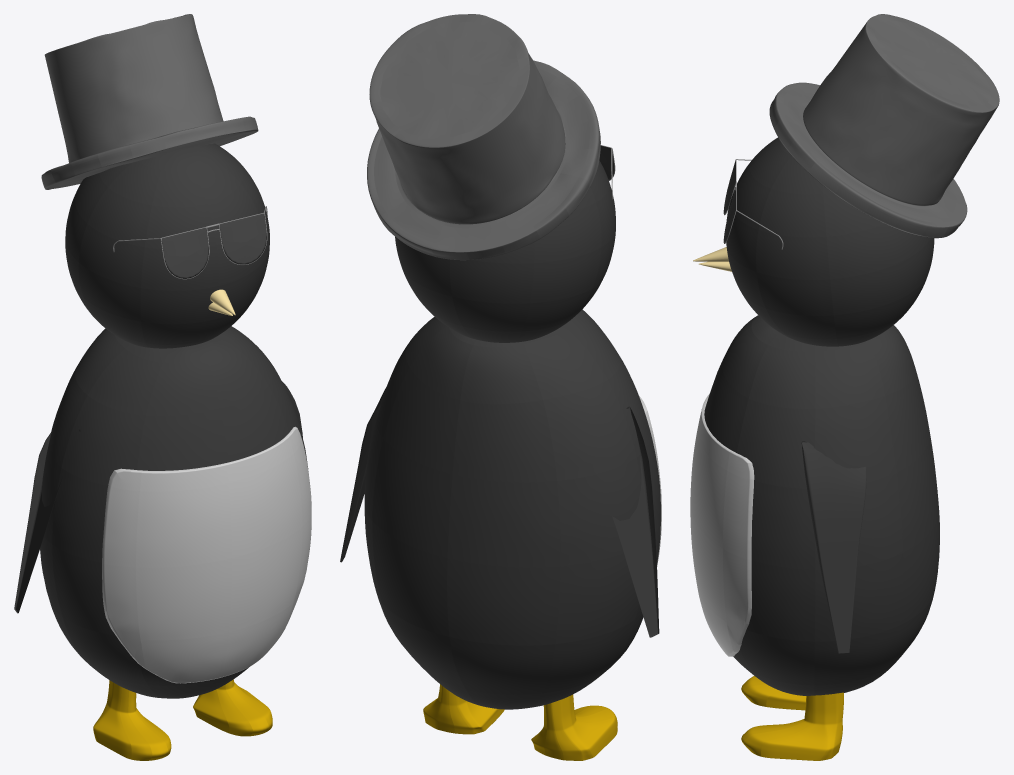
The model's file is PenguinFBX.fbx.
3 views of the same model, side by side, from view 1: azimuth 30°, elevation 25°; view 2: azimuth 150°, elevation 25°; view 3: azimuth 270°, elevation 25° (orthographic). The views are drawn at different scales.
Parts seen in each view (by area): view 1: body, white_body_part, head, hat, right_leg, left_leg, right_hand, left_glass, right_glass; view 2: body, hat, head, right_hand, right_leg, left_leg, left_hand; view 3: body, hat, head, white_body_part, left_hand, left_leg, right_leg.
Part boxes in pixels (x1,y1,x2,y2): body: (40,326,308,698); white_body_part: (102,426,311,683); head: (65,143,269,348); hat: (41,14,258,189); right_leg: (93,680,171,760); left_leg: (193,679,272,736); right_hand: (14,428,80,613); left_glass: (219,213,266,265); right_glass: (161,227,208,279); body: (364,309,660,709); hat: (367,14,600,260); head: (395,160,615,342); right_hand: (612,406,659,637); right_leg: (531,694,617,760); left_leg: (423,684,504,734); left_hand: (340,387,386,562); body: (704,315,939,695); hat: (769,14,999,238); head: (726,137,934,346); white_body_part: (690,393,754,656); left_hand: (801,441,866,653); left_leg: (741,692,843,760); right_leg: (741,676,806,710).
Bounding box in the file's own units: 11.72 × 26.19 × 10.54.
